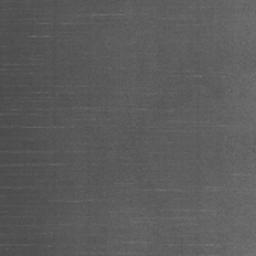Waist folding: (0, 12, 228, 195), (0, 172, 256, 256), (143, 5, 256, 25), (186, 72, 256, 79)
